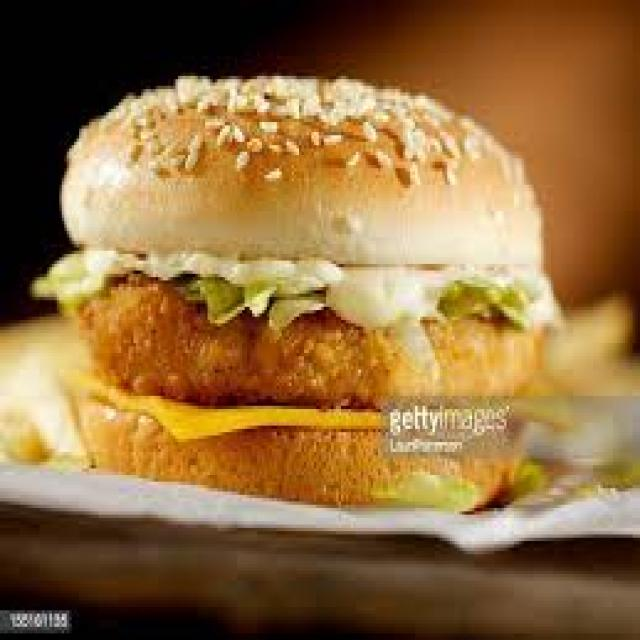햄버거: (60, 86, 541, 515)
